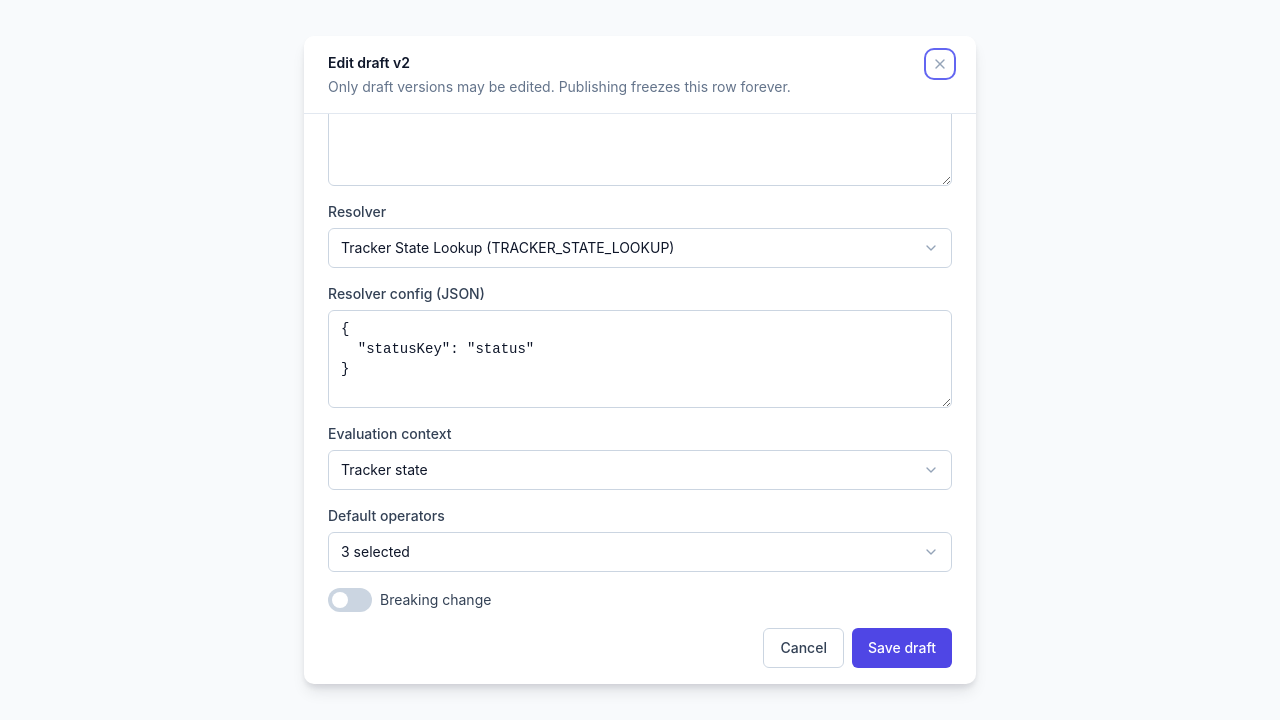
Test: EditVersionDraftModal › toggling breaking change off clears a pending override confirmation
This screenshot has width=1280, height=720.
(page scrolled)
Click the button "Save draft".
click(902, 648)  # box [852,628,952,668]
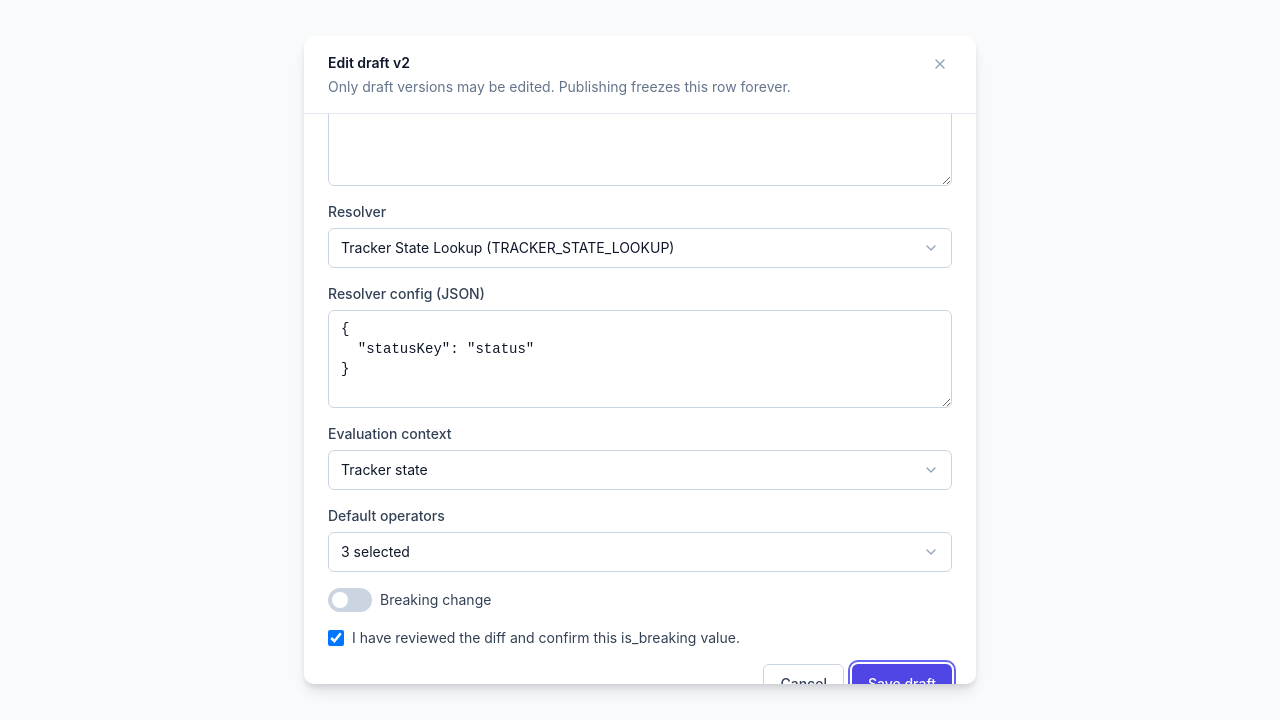
Result: the checkbox labelled "I have reviewed the diff and confirm this is_breaking value." is checked at [328,630,344,646]
Click the switch named "breaking change".
click(350, 600)  # box [328,588,372,612]
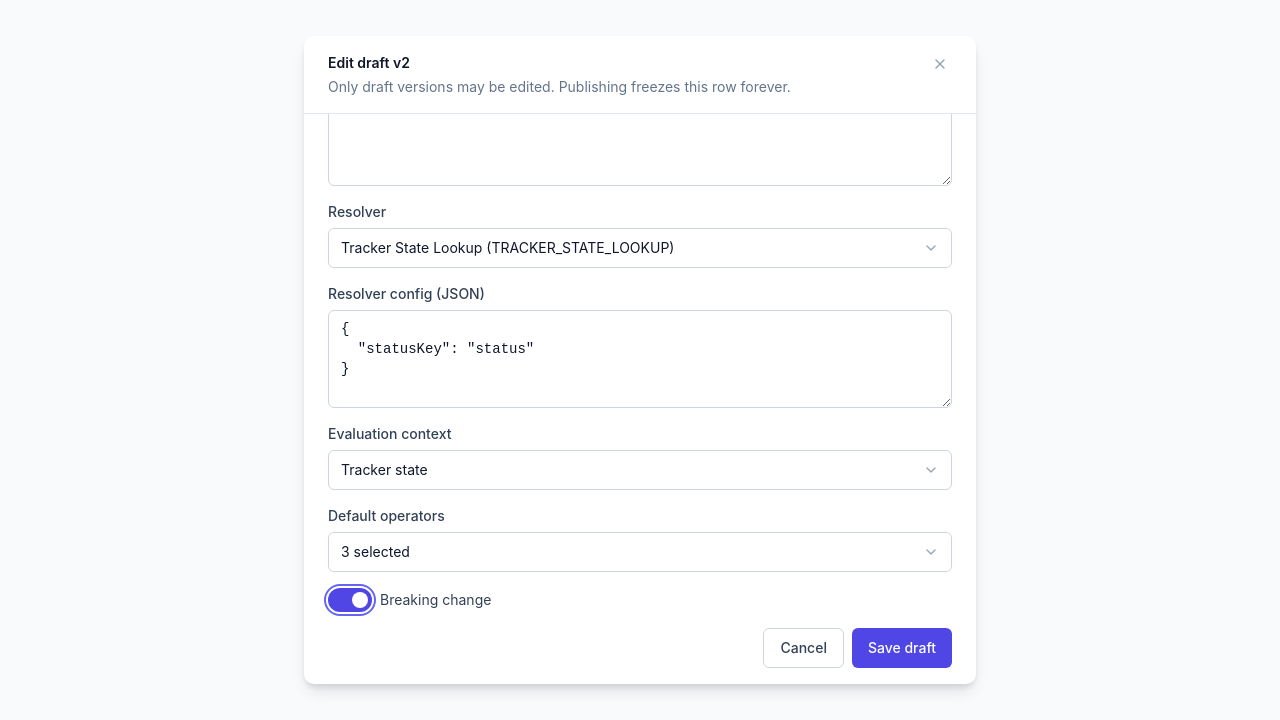
Result: the label "I have reviewed the diff" is gone
